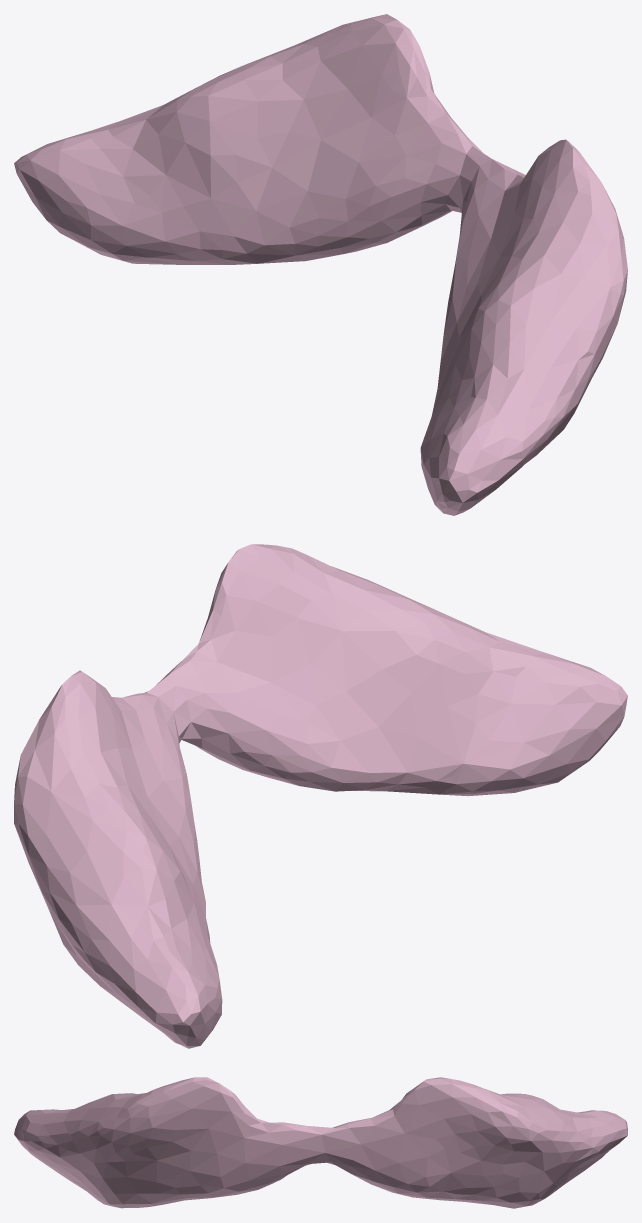
3 views of the same model, one above another, from view 1: azimuth 30°, elevation 25°; view 2: azimuth 150°, elevation 25°; view 3: azimuth 270°, elevation 25° (orthographic). The views are drawn at different scales.
Visible parts, largest first — view 1: 720.obj; view 2: 720.obj; view 3: 720.obj.
Part boxes in pixels (bbox=[...]): 720.obj: bbox=[14, 14, 627, 515]; 720.obj: bbox=[14, 544, 627, 1048]; 720.obj: bbox=[14, 1077, 627, 1208].
Size of the model in its own units: 891 by 822 by 2604.
